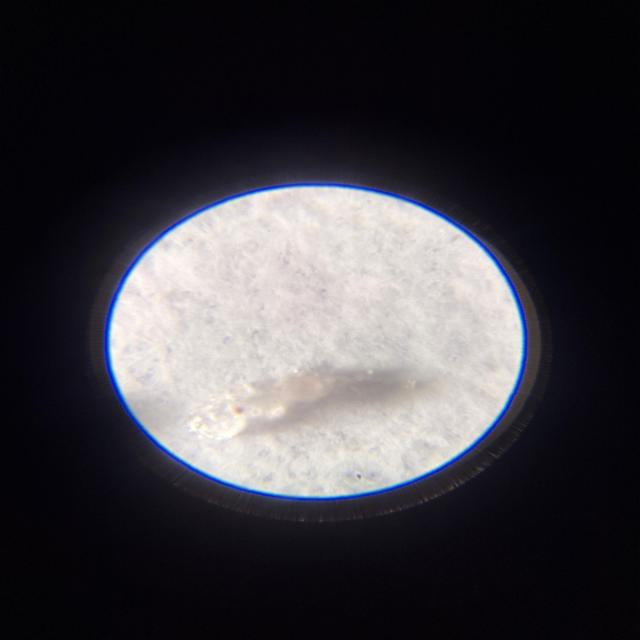microplastic_type_1: (187, 368, 401, 441)
